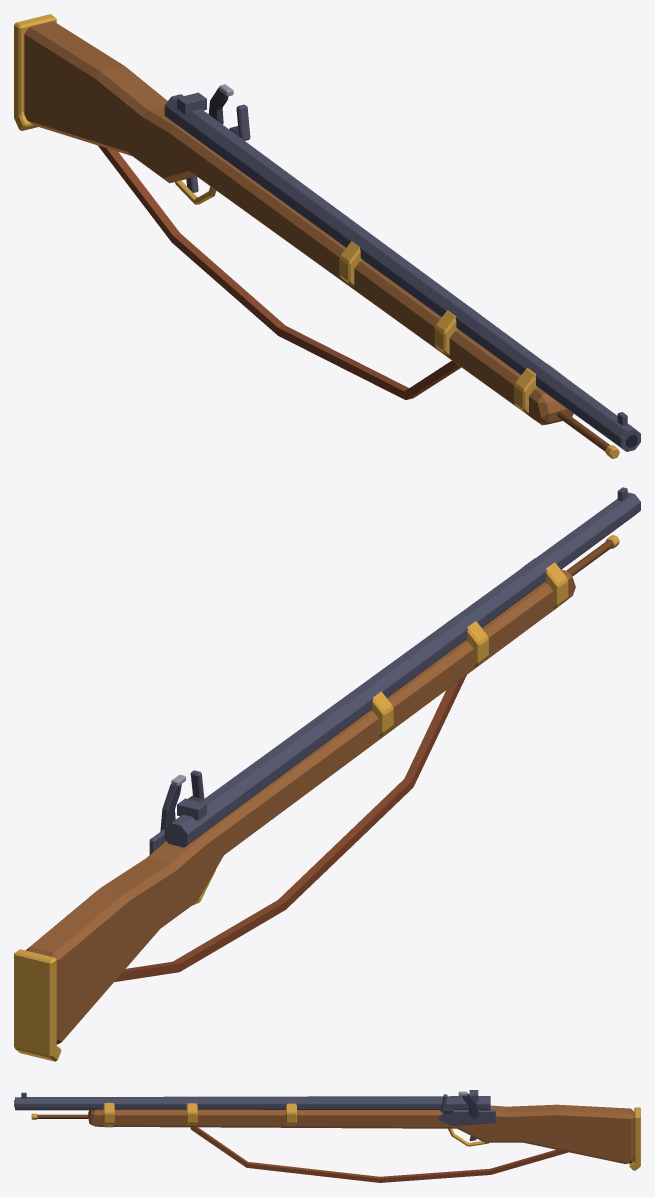
The model's file is myw_musket.glb.
The picture shows the model from 3 angles, top to bottom: view 1: azimuth 30°, elevation 25°; view 2: azimuth 150°, elevation 25°; view 3: azimuth 270°, elevation 25°; orthographic projection. The views are drawn at different scales.
Parts seen in each view (by area): view 1: Stock, Barrel, Sling, Brass, Ramrod; view 2: Stock, Barrel, Brass, Sling; view 3: Stock, Barrel, Sling, Brass, Lock, Ramrod, Hammer.
Boxes of the visible parts, left/top/right/bottom form: Stock: left=24, top=21, right=573, bottom=425; Barrel: left=164, top=92, right=640, bottom=451; Sling: left=98, top=145, right=461, bottom=399; Brass: left=14, top=14, right=562, bottom=419; Ramrod: left=557, top=410, right=619, bottom=458; Stock: left=26, top=569, right=575, bottom=1044; Barrel: left=164, top=487, right=640, bottom=847; Brass: left=14, top=558, right=568, bottom=1061; Sling: left=114, top=675, right=466, bottom=982; Stock: left=88, top=1104, right=634, bottom=1163; Barrel: left=14, top=1090, right=490, bottom=1110; Sling: left=190, top=1127, right=568, bottom=1182; Brass: left=103, top=1103, right=640, bottom=1170; Lock: left=438, top=1094, right=495, bottom=1125; Ramrod: left=31, top=1113, right=88, bottom=1119; Hammer: left=458, top=1091, right=479, bottom=1117.
Bounding box in the file's own units: 0.2847 × 0.9562 × 5.67.
